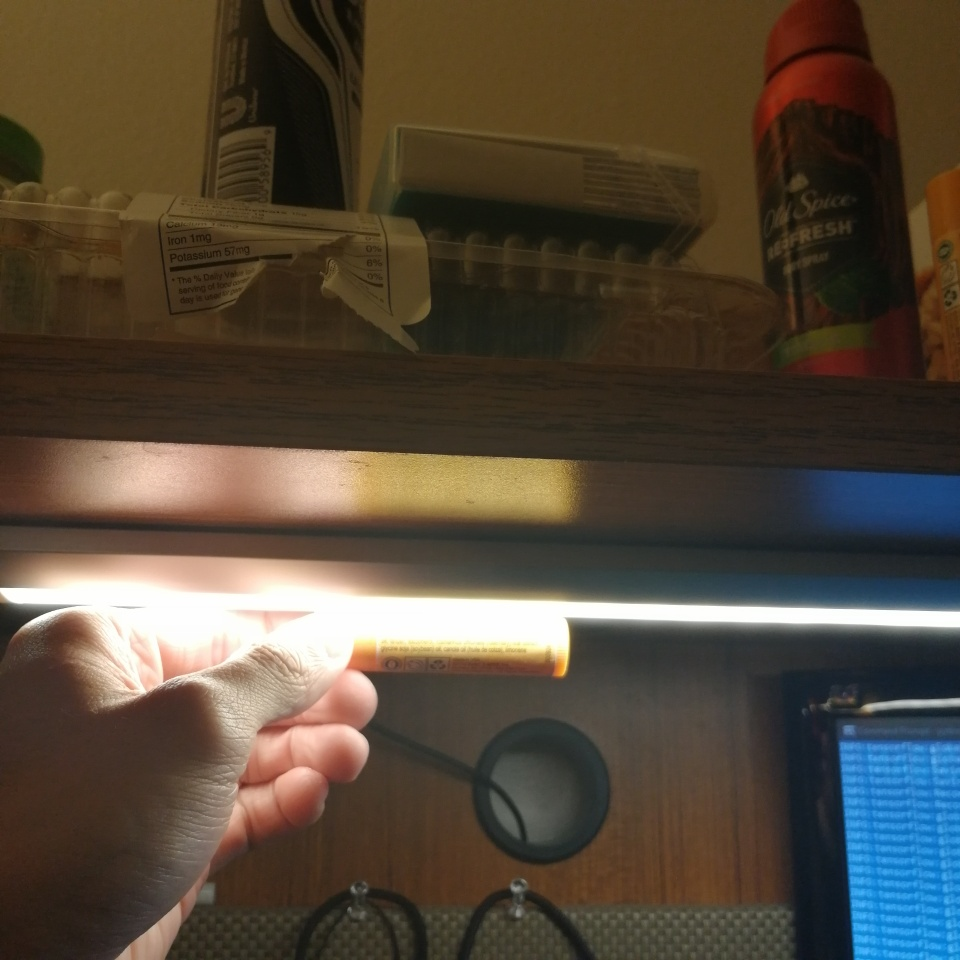chapstick: (349, 610, 574, 683)
